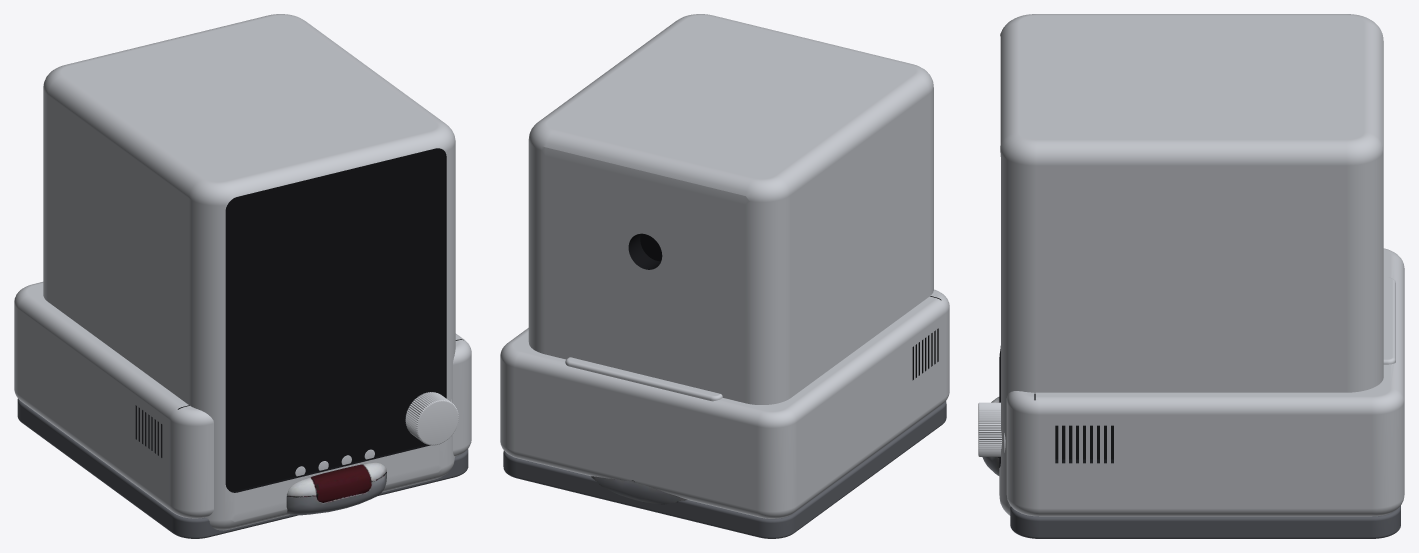
File: hifi-v1.glb
3 views of the same model, side by side, from view 1: azimuth 30°, elevation 25°; view 2: azimuth 150°, elevation 25°; view 3: azimuth 270°, elevation 25° (orthographic). The views are drawn at different scales.
Visible parts, largest first — view 1: speaker, radio-body, remote, radio-knob; view 2: speaker, radio-body, remote; view 3: speaker, radio-body, radio-knob.
Part boxes in pixels (box(x1,y1,x2,y2)): speaker: box(43, 14, 455, 530); radio-body: box(14, 282, 471, 538); remote: box(286, 462, 386, 515); radio-knob: box(405, 392, 458, 445); speaker: box(528, 14, 933, 404); radio-body: box(500, 289, 949, 538); remote: box(591, 476, 687, 504); speaker: box(999, 14, 1383, 515); radio-body: box(1004, 248, 1404, 538); radio-knob: box(978, 402, 1001, 456).
Size of the model in its own units: 0.8708 by 0.9801 by 0.9802.
Materials: 14 (1 with a texture image).
